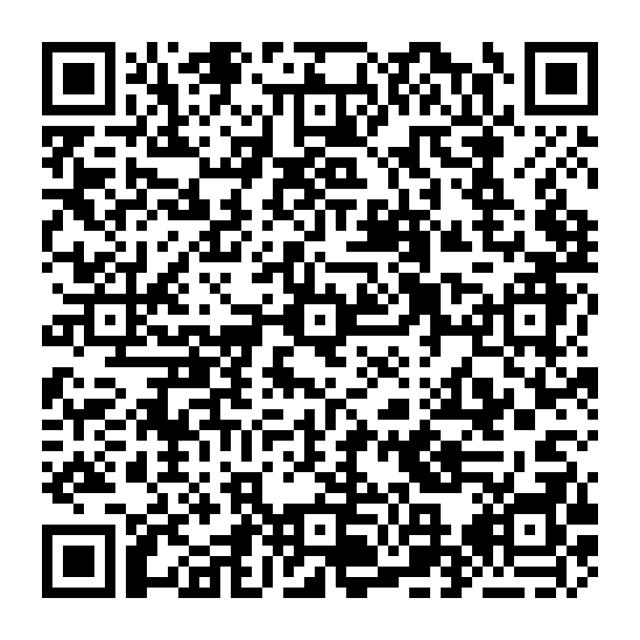QRCode: (1, 1, 640, 634)
